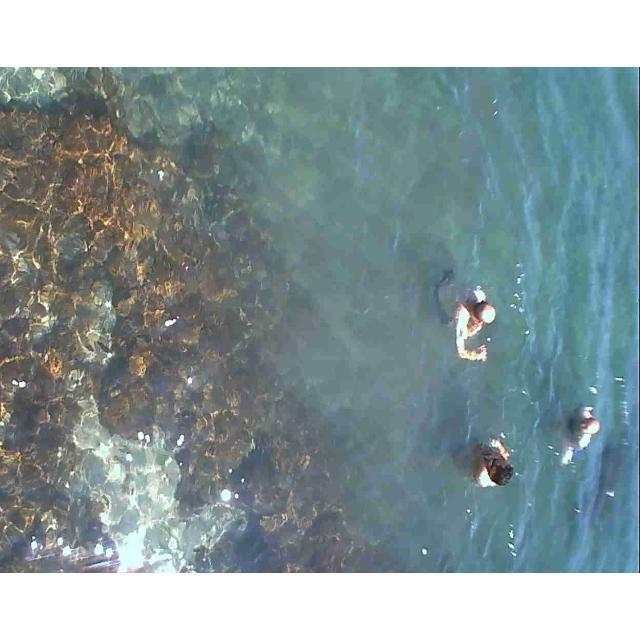human: (432, 266, 494, 365), (468, 424, 524, 494), (558, 397, 593, 453)
